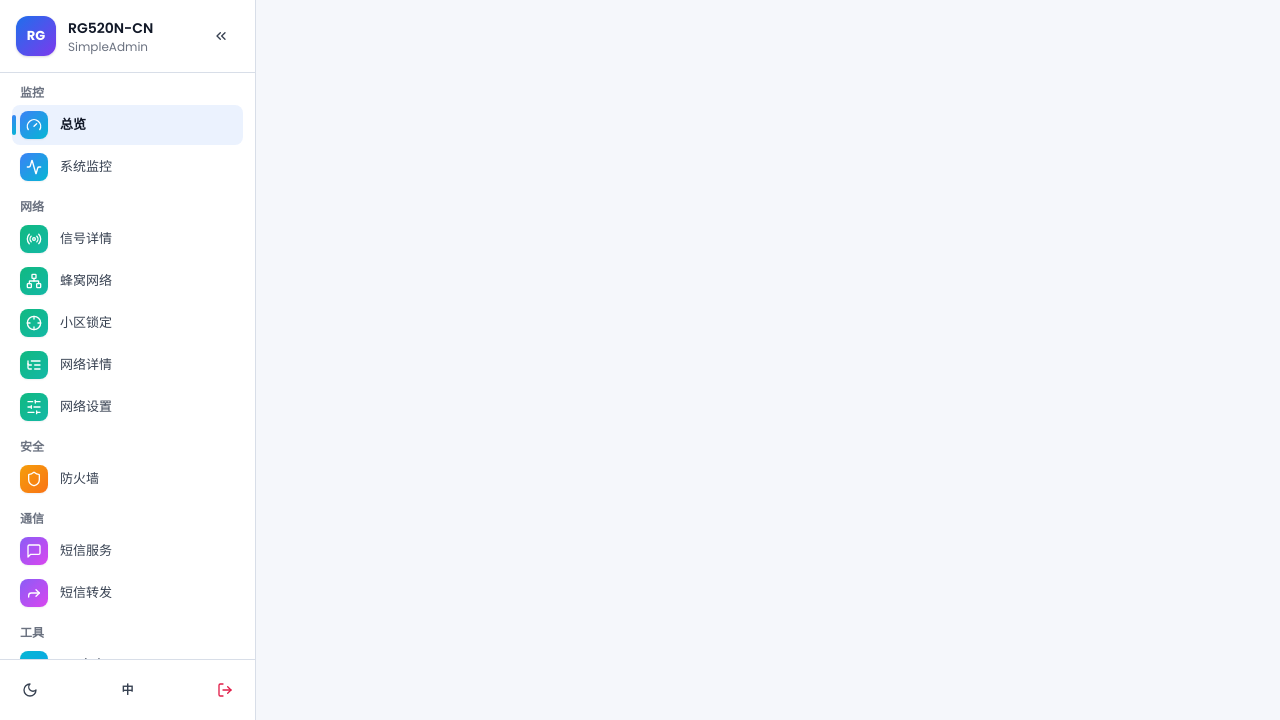
Test: Sidebar › 退出登录经 ConfirmDialog 确认,取消不调 logout
Click the button named "退出登录".
click(225, 690)  # box [207,672,243,708]
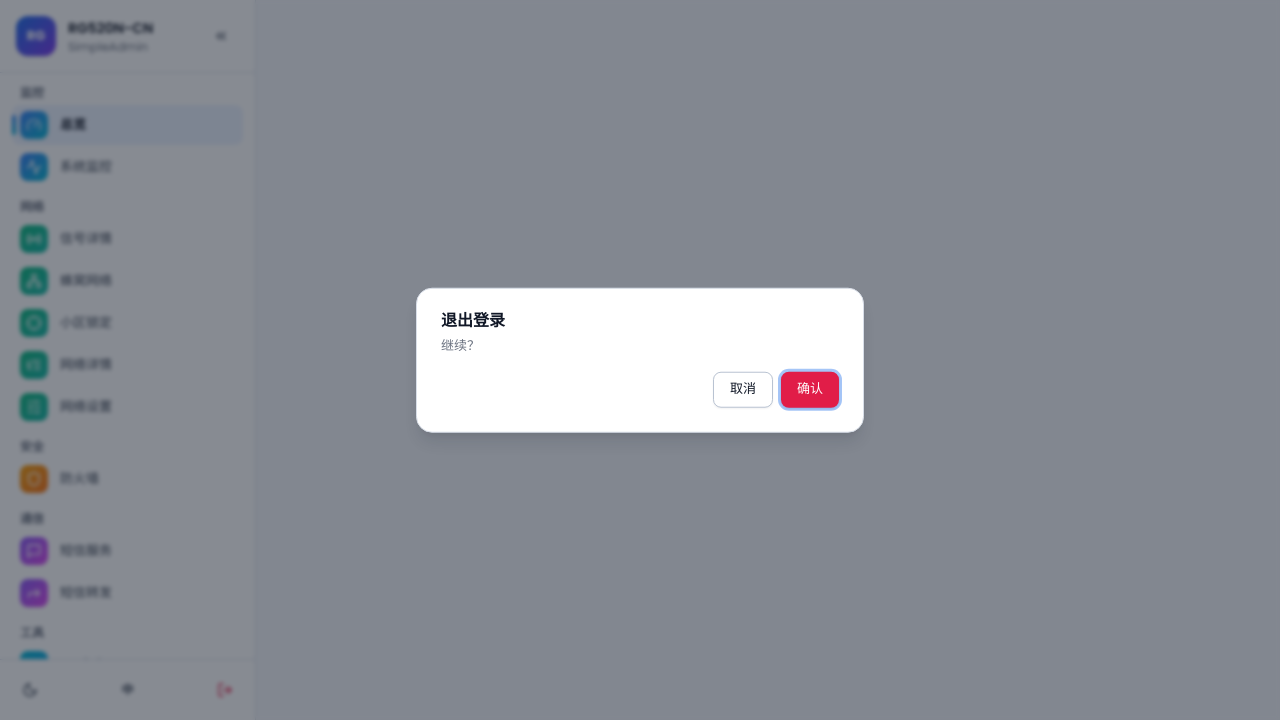
Result: the heading "退出登录" is shown at [441,309,505,332]
Click the button "取消".
click(743, 389)  # box [713,371,773,407]
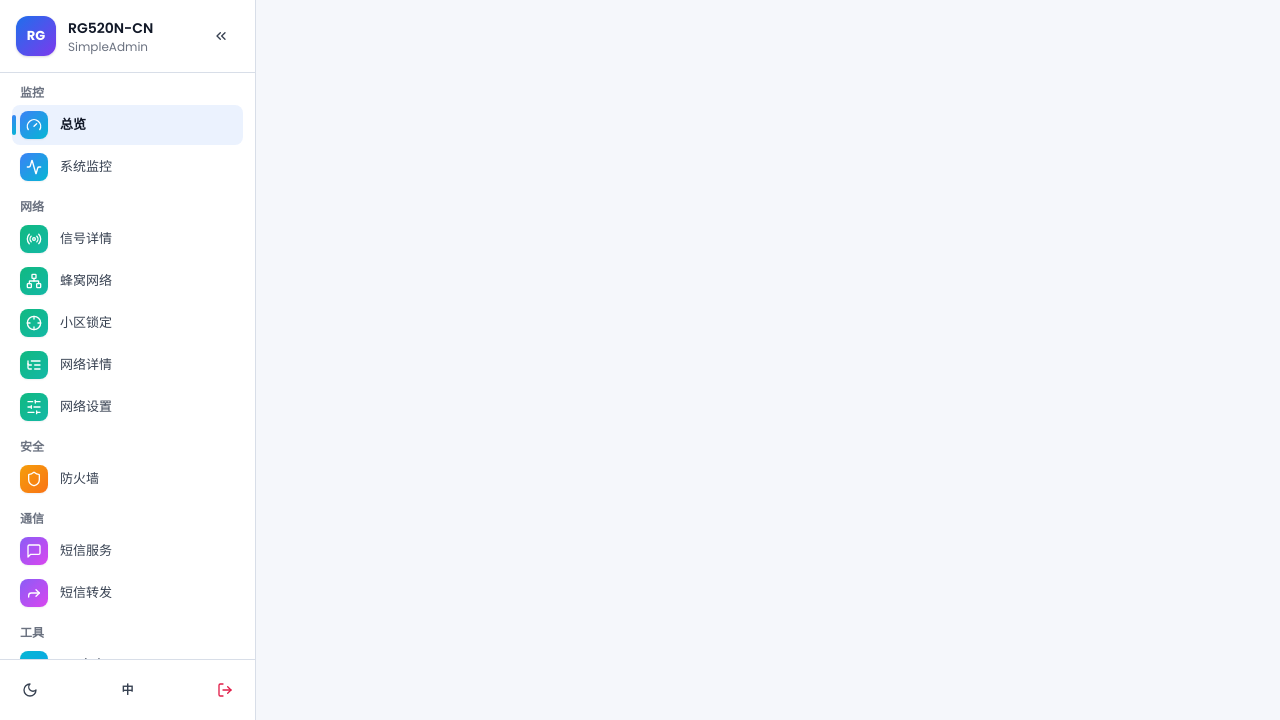
Result: the dialog is gone
